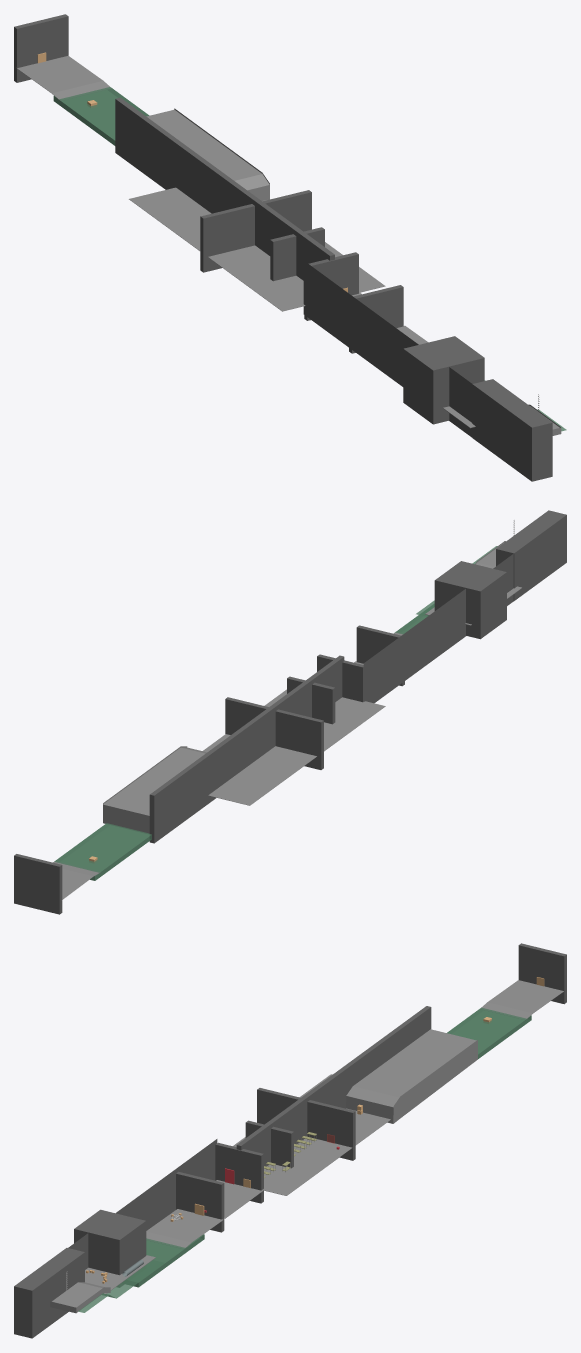
File: Kanal.fbx
3 renders of one model, top to bottom at view 1: azimuth 30°, elevation 25°; view 2: azimuth 150°, elevation 25°; view 3: azimuth 330°, elevation 25°, orthographic. The views are drawn at different scales.
Visible parts, largest first — view 1: Cube.030, Plane.001, Cube.018, Cube.005, Cube.039, Cube.029, Cube.046, Cube.055, Cube.045, Cube.054, Cube.052, Cube.031 (+2 smaller); view 2: Cube.030, Plane.001, Cube.005, Cube.018, Cube.046, Cube.039, Cube.045, Cube.052, Cube.055, Cube.029, Cube.031, Cube.019 (+2 smaller); view 3: Cube.046, Cube.030, Cube.018, Cube.005, Cube.039, Plane.001, Cube.029, Cube.052, Cube.055, Cube.019, Cube.054, Cube.026 (+8 smaller).
Part boxes in pixels (box(x1,y1,x2,y2)): Cube.030: box(115, 97, 334, 280); Plane.001: box(303, 261, 472, 437); Cube.018: box(472, 379, 552, 481); Cube.005: box(403, 336, 484, 424); Cube.039: box(200, 190, 311, 272); Cube.029: box(208, 242, 385, 311); Cube.046: box(146, 108, 269, 200); Cube.055: box(14, 14, 68, 82); Cube.045: box(129, 187, 266, 250); Cube.054: box(16, 55, 111, 100); Cube.052: box(53, 87, 149, 145); Cube.031: box(270, 227, 324, 281); Cube.030: box(149, 655, 344, 843); Plane.001: box(363, 554, 513, 703); Cube.005: box(434, 561, 506, 639); Cube.018: box(496, 510, 566, 600); Cube.046: box(103, 746, 206, 833); Cube.039: box(225, 697, 323, 769); Cube.045: box(202, 734, 316, 805); Cube.052: box(54, 823, 151, 880); Cube.055: box(14, 854, 62, 914); Cube.029: box(264, 689, 385, 751); Cube.031: box(287, 676, 335, 724); Cube.019: box(356, 625, 404, 686); Cube.046: box(346, 1029, 477, 1123); Cube.030: box(236, 1006, 431, 1166); Cube.018: box(14, 1248, 84, 1338); Cube.005: box(74, 1209, 146, 1287); Cube.039: box(257, 1088, 355, 1160); Plane.001: box(68, 1139, 217, 1269); Cube.029: box(233, 1137, 352, 1195); Cube.052: box(447, 1007, 531, 1058); Cube.055: box(518, 943, 566, 1004); Cube.019: box(176, 1171, 224, 1232); Cube.054: box(481, 980, 563, 1019); Cube.026: box(215, 1142, 263, 1203).
Bounding box in the file's own units: 365877 × 42722 × 23900.
